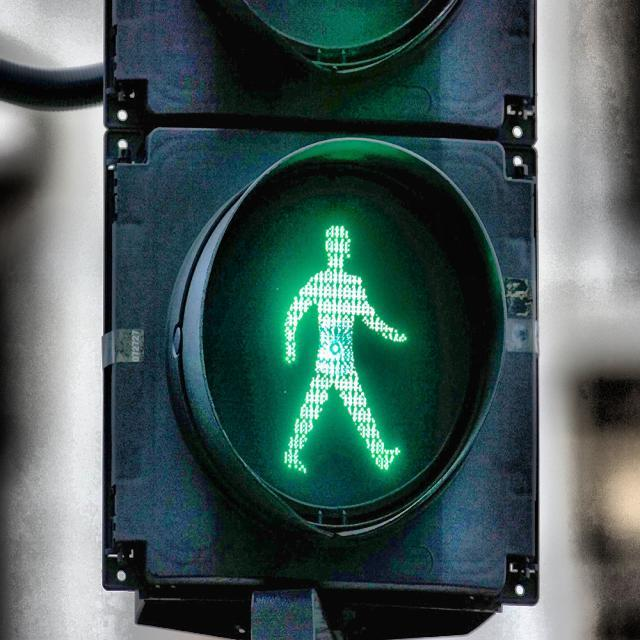green_light: (277, 218, 413, 482)
